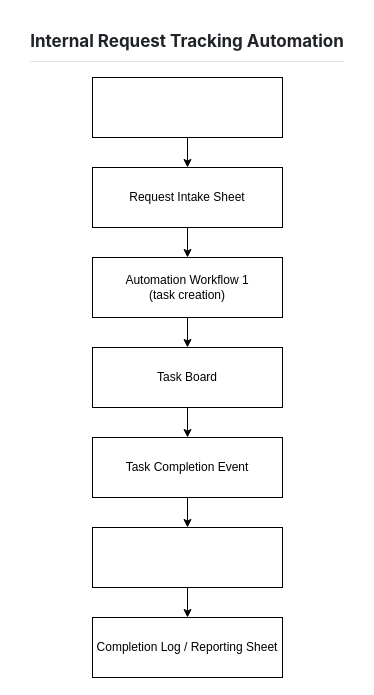
Image size: 374x695. Some labels were removed from this diagram. Here are the shapes that lost their labels. From the top down, the centre of each, then its label:
At pixel 187 107: "Request Submission Form".
At pixel 187 557: "Automation Workflow 2 (completion tracking)".
